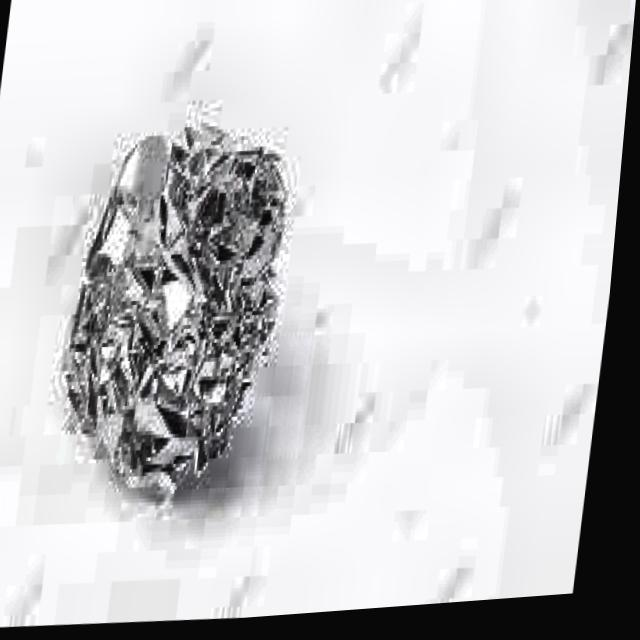Foil: (39, 67, 332, 536)
